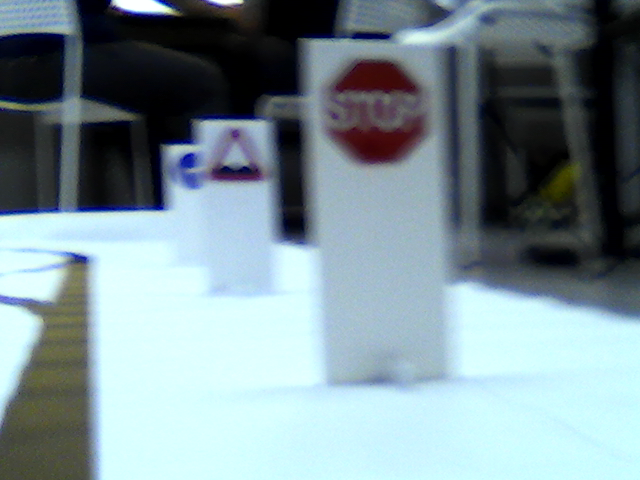Nerov: (209, 130, 268, 182)
Stop: (323, 61, 420, 156)
